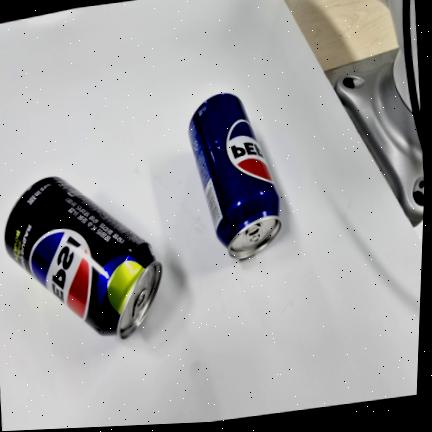can_pepsi: (189, 93, 281, 258)
can_pepsi_zero: (5, 177, 162, 339)
